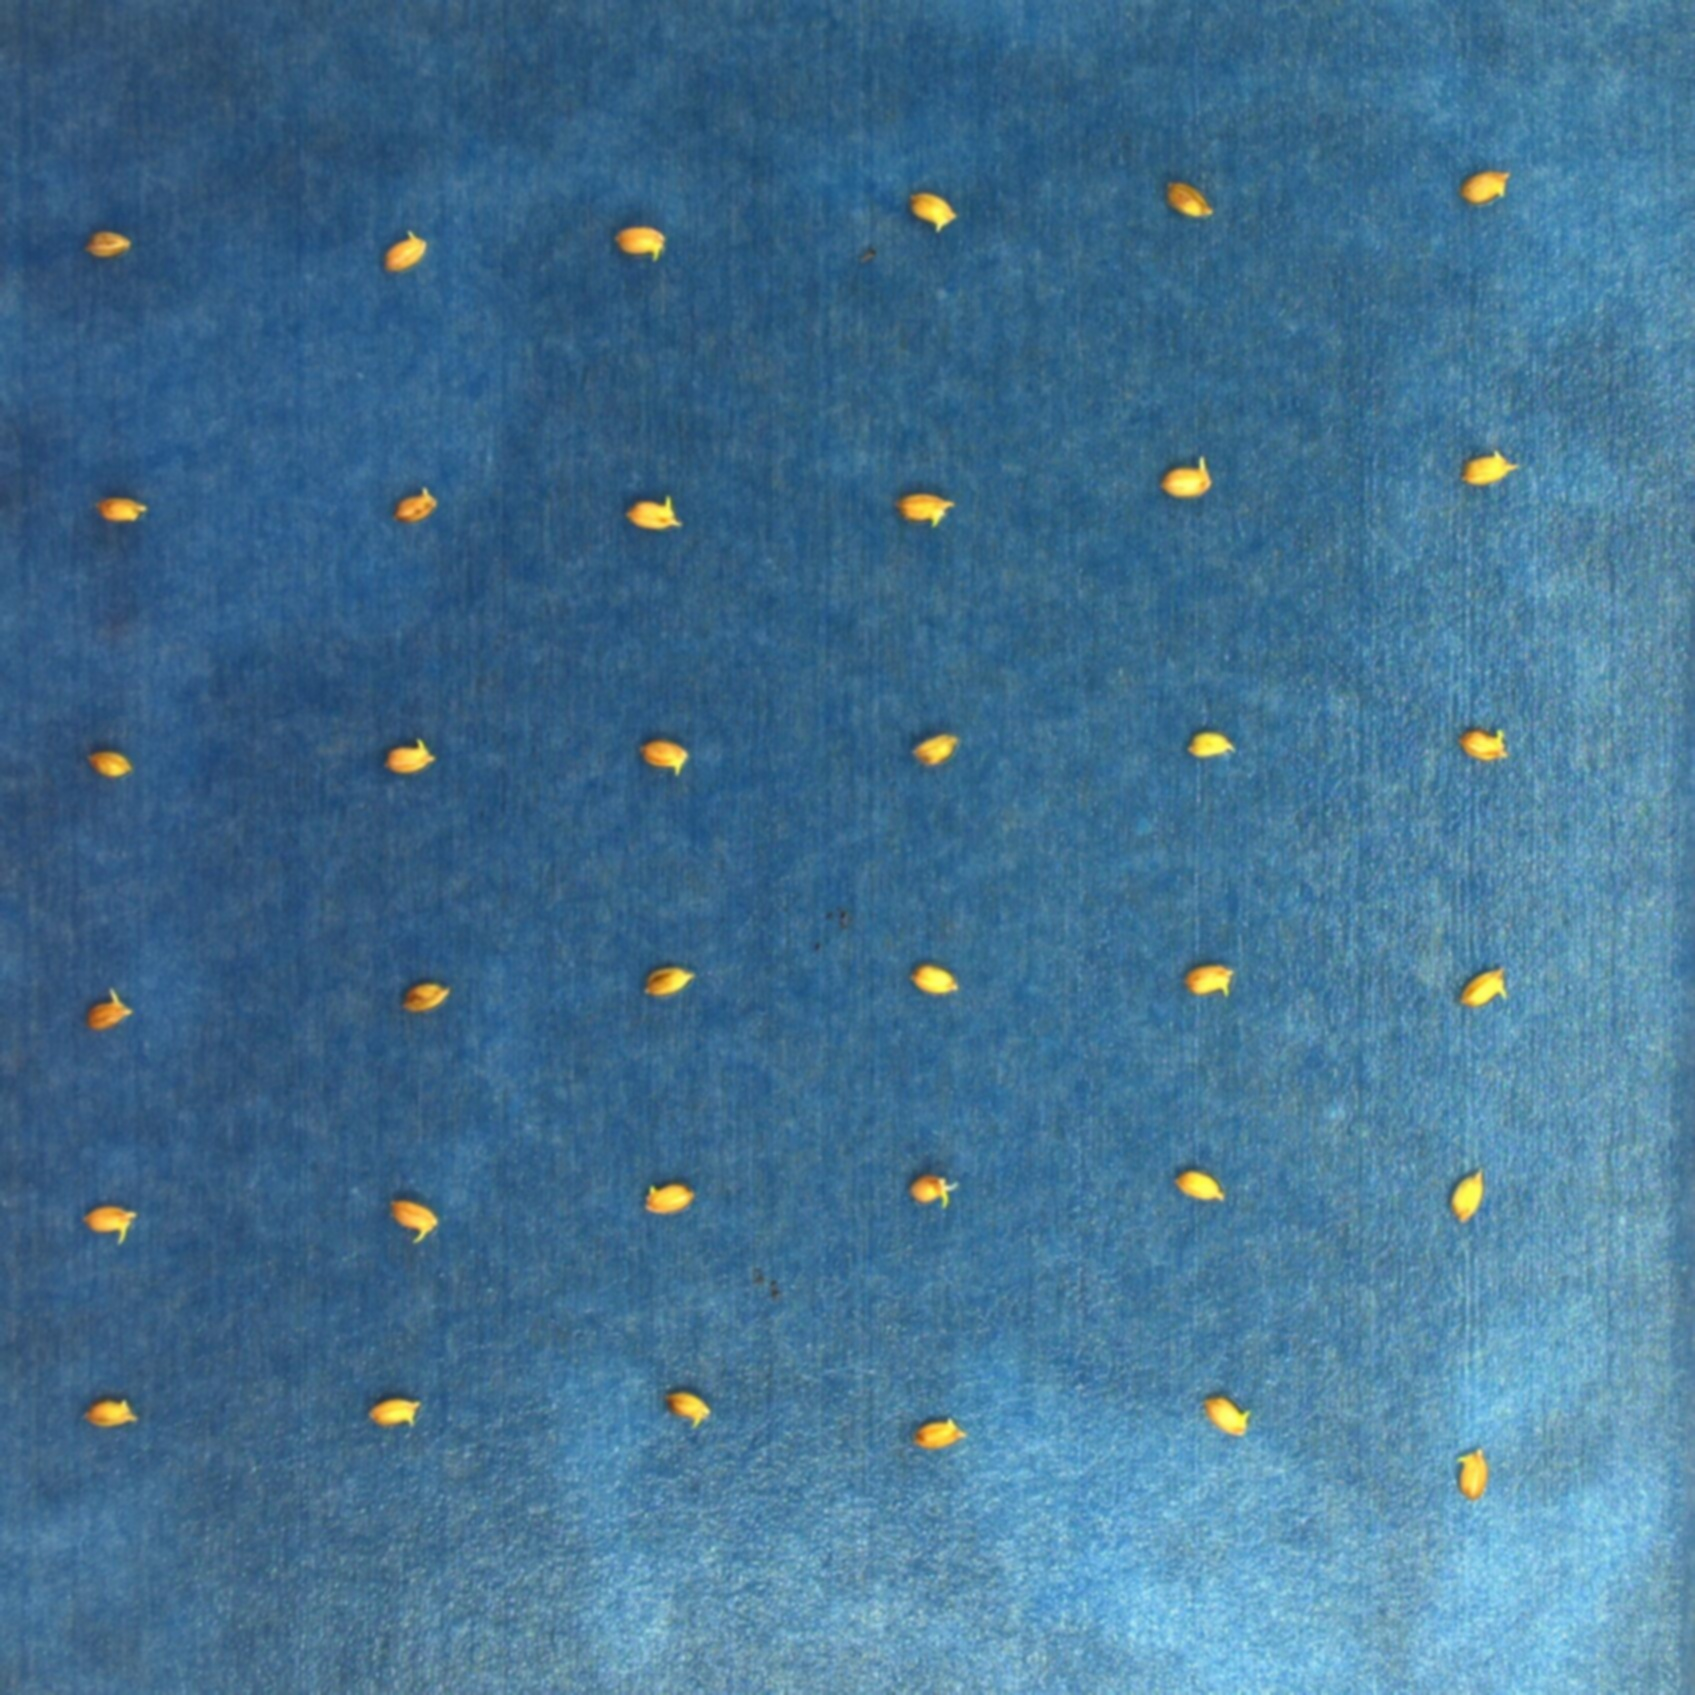not sprout: (1451, 962, 1513, 1012), (81, 1201, 141, 1250), (1156, 456, 1220, 501), (891, 487, 958, 529), (1163, 174, 1218, 224), (1200, 1394, 1254, 1444), (1454, 449, 1518, 490), (82, 987, 137, 1035), (385, 1200, 442, 1243), (360, 1395, 425, 1433), (905, 189, 962, 231), (1456, 726, 1513, 768), (92, 490, 152, 529), (1445, 1170, 1487, 1226), (1170, 1170, 1232, 1208), (906, 1419, 969, 1456), (382, 231, 428, 278), (81, 1399, 141, 1434), (391, 483, 442, 525), (636, 740, 692, 778), (664, 1391, 714, 1433), (1456, 1444, 1492, 1501), (612, 224, 664, 262), (622, 498, 688, 529), (640, 1178, 694, 1215), (81, 747, 140, 781), (379, 740, 438, 775), (903, 734, 958, 770), (906, 1173, 958, 1209), (396, 981, 452, 1014), (1462, 168, 1510, 205), (1184, 730, 1242, 761), (905, 965, 962, 997), (81, 230, 137, 261), (643, 965, 692, 1000), (1180, 965, 1239, 993)
